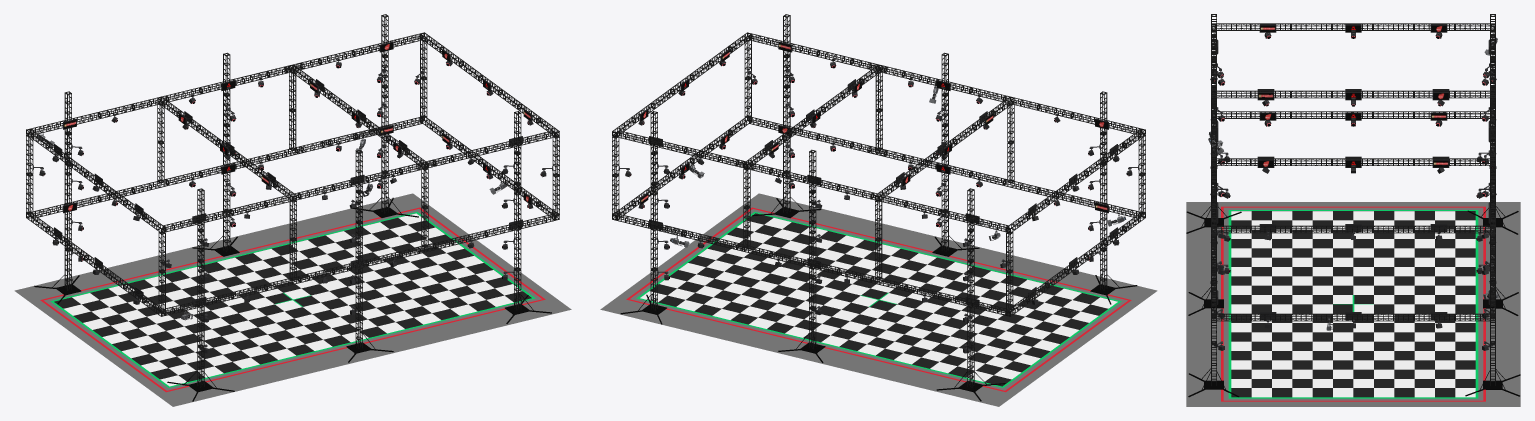
The model's file is Mocap_Truss_stage.glb.
The picture shows the model from 3 angles, left to right: view 1: azimuth 30°, elevation 25°; view 2: azimuth 150°, elevation 25°; view 3: azimuth 270°, elevation 25°; orthographic projection. The views are drawn at different scales.
Visible parts, largest first — view 1: Stage_Floor, Logo_Annapurna_Boards, Logo_Mihira_Boards, Logo_Animatrik_Boards; view 2: Stage_Floor, Logo_Annapurna_Boards, Logo_Animatrik_Boards, Logo_Mihira_Boards; view 3: Stage_Floor, Logo_Mihira_Boards, Logo_Animatrik_Boards, Logo_Annapurna_Boards, Mocap_Stage_v2_Truss_piece0124, Mocap_Stage_v2_Truss_piece0225, Mocap_Stage_v2_Truss_piece0528, Mocap_Stage_v2_Truss_piece0542, Mocap_Stage_v2_Truss_piece0629, Mocap_Stage_v2_Truss_piece0232, Mocap_Stage_v2_Truss_piece0326, Mocap_Stage_v2_Truss_piece0427 (+7 smaller).
Boxes of the visible parts, x1=… form: Stage_Floor: x1=14, y1=193, x2=571, y2=406; Logo_Annapurna_Boards: x1=94, y1=79, x2=491, y2=269; Logo_Mihira_Boards: x1=54, y1=41, x2=531, y2=297; Logo_Animatrik_Boards: x1=54, y1=79, x2=531, y2=307; Stage_Floor: x1=600, y1=193, x2=1157, y2=406; Logo_Annapurna_Boards: x1=680, y1=79, x2=1077, y2=270; Logo_Animatrik_Boards: x1=640, y1=41, x2=1117, y2=298; Logo_Mihira_Boards: x1=640, y1=79, x2=1117, y2=307; Stage_Floor: x1=1186, y1=202, x2=1520, y2=406; Logo_Mihira_Boards: x1=1217, y1=24, x2=1489, y2=320; Logo_Animatrik_Boards: x1=1217, y1=24, x2=1489, y2=320; Logo_Annapurna_Boards: x1=1217, y1=24, x2=1489, y2=320; Mocap_Stage_v2_Truss_piece0124: x1=1455, y1=225, x2=1495, y2=233; Mocap_Stage_v2_Truss_piece0225: x1=1414, y1=225, x2=1454, y2=233; Mocap_Stage_v2_Truss_piece0528: x1=1291, y1=225, x2=1331, y2=233; Mocap_Stage_v2_Truss_piece0542: x1=1291, y1=90, x2=1331, y2=98; Mocap_Stage_v2_Truss_piece0629: x1=1250, y1=225, x2=1290, y2=233; Mocap_Stage_v2_Truss_piece0232: x1=1414, y1=313, x2=1454, y2=321; Mocap_Stage_v2_Truss_piece0326: x1=1373, y1=225, x2=1413, y2=233; Mocap_Stage_v2_Truss_piece0427: x1=1332, y1=225, x2=1372, y2=233.
Bounding box in the file's own units: 24.64 × 11.54 × 16.82.
Materials: 23 (3 with a texture image).
